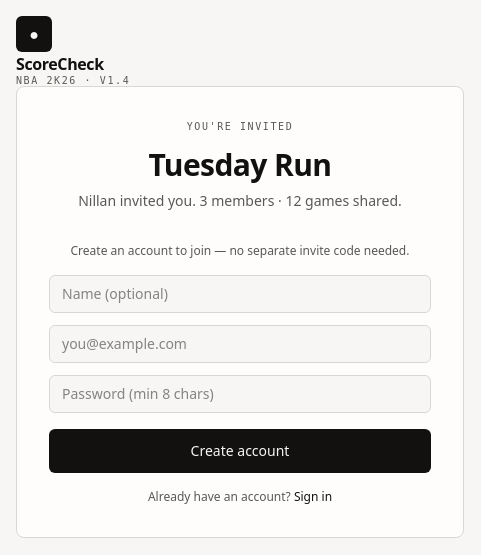
Test case: a logged-out visitor › can switch to signing in instead
What coordinates should you click on to do the following:
click the button "Sign in"
I would click on:
 (313, 497)
Its box is [294,489,332,505].
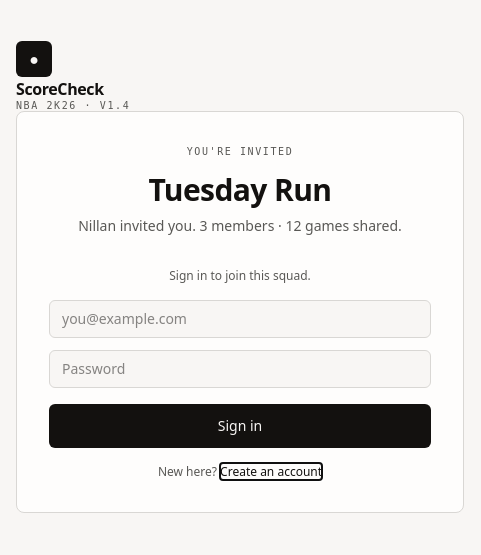
expect the field with placeholder "Name (optional)" is not shown: met
expect the text "Sign in to join this squad." is shown: met, box [169,267,311,284]
